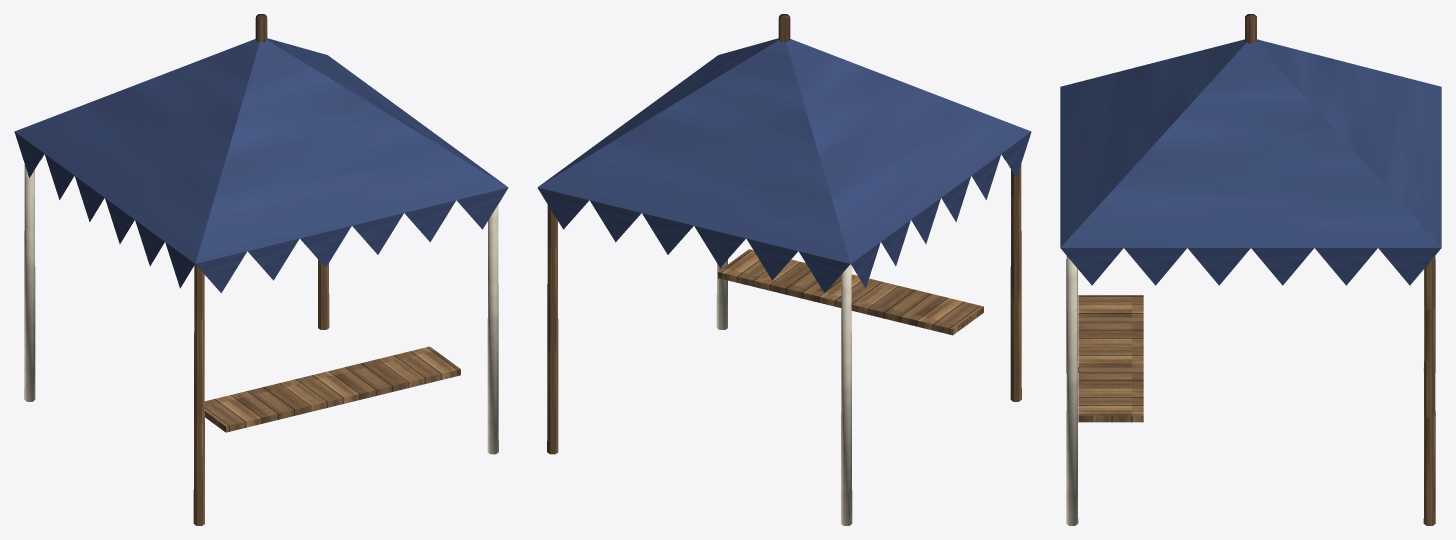
Rendered from Stall_Tent_Market_3.gltf.
3 renders of one model, left to right at view 1: azimuth 30°, elevation 25°; view 2: azimuth 150°, elevation 25°; view 3: azimuth 270°, elevation 25°, orthographic. The views are drawn at different scales.
Visible parts, largest first — view 1: Stall_Tent_Market_3; view 2: Stall_Tent_Market_3; view 3: Stall_Tent_Market_3.
Part boxes in pixels (left/top/right/bottom): Stall_Tent_Market_3: left=14, top=14, right=508, bottom=525; Stall_Tent_Market_3: left=537, top=14, right=1031, bottom=525; Stall_Tent_Market_3: left=1060, top=14, right=1441, bottom=525.
Bounding box in the file's own units: 3.2 × 4 × 3.2.
4 materials, 4 textured.
